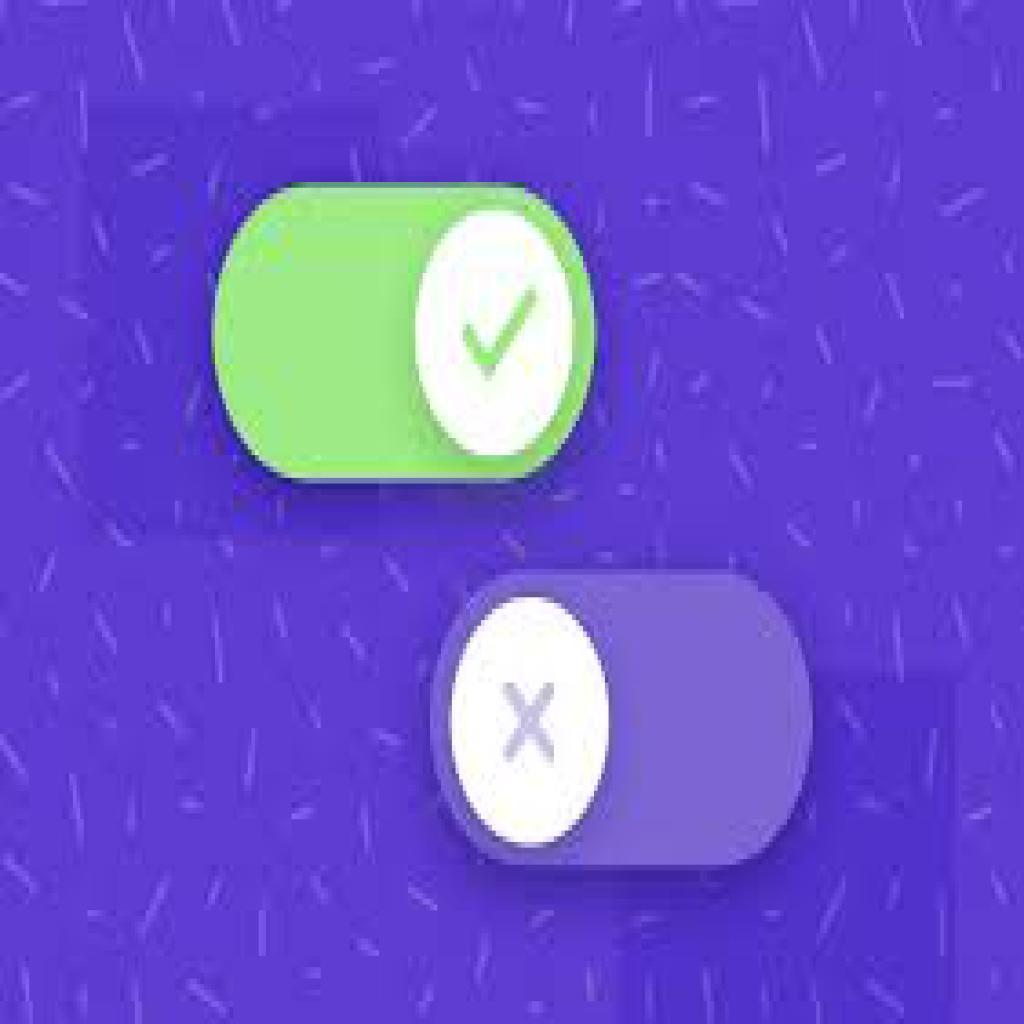switch: (212, 182, 596, 484), (426, 568, 812, 867)
